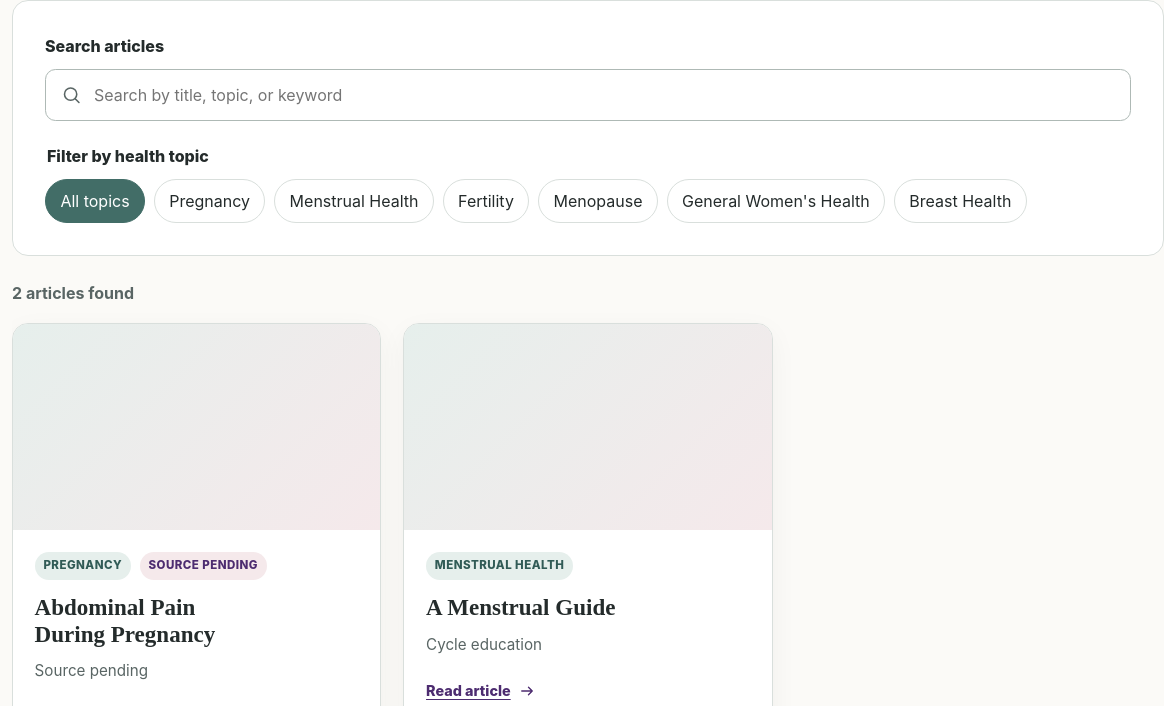
Test: ArticleSearch › searches, filters, announces empty state, and clears
Expected: the text "2 articles found" is shown, x1=12 y1=283 x2=134 y2=303
Type "menstrual" into the search field labelled "Search articles" at (588, 95), box x1=45 y1=69 x2=1131 y2=121
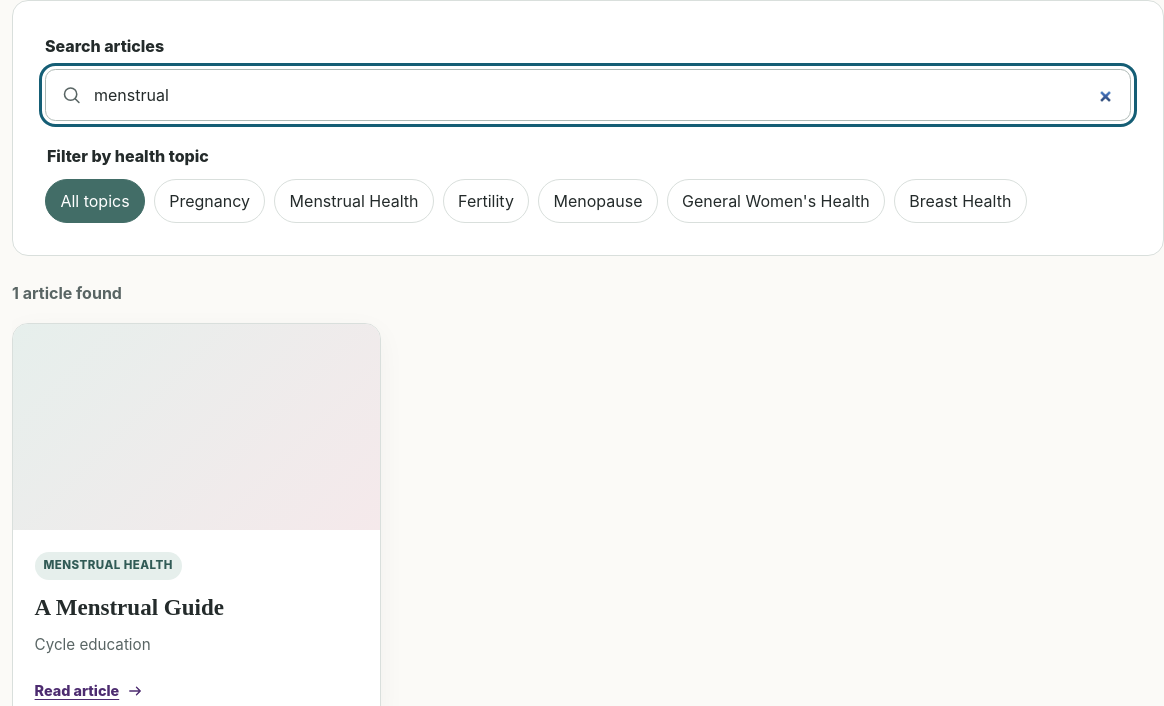
Expected: the link "A Menstrual Guide" is shown, x1=35 y1=594 x2=224 y2=620
Result: the text "1 article found" is shown at x1=12 y1=283 x2=122 y2=303
Click the button "Pregnancy" at (210, 201), box x1=154 y1=179 x2=265 y2=223
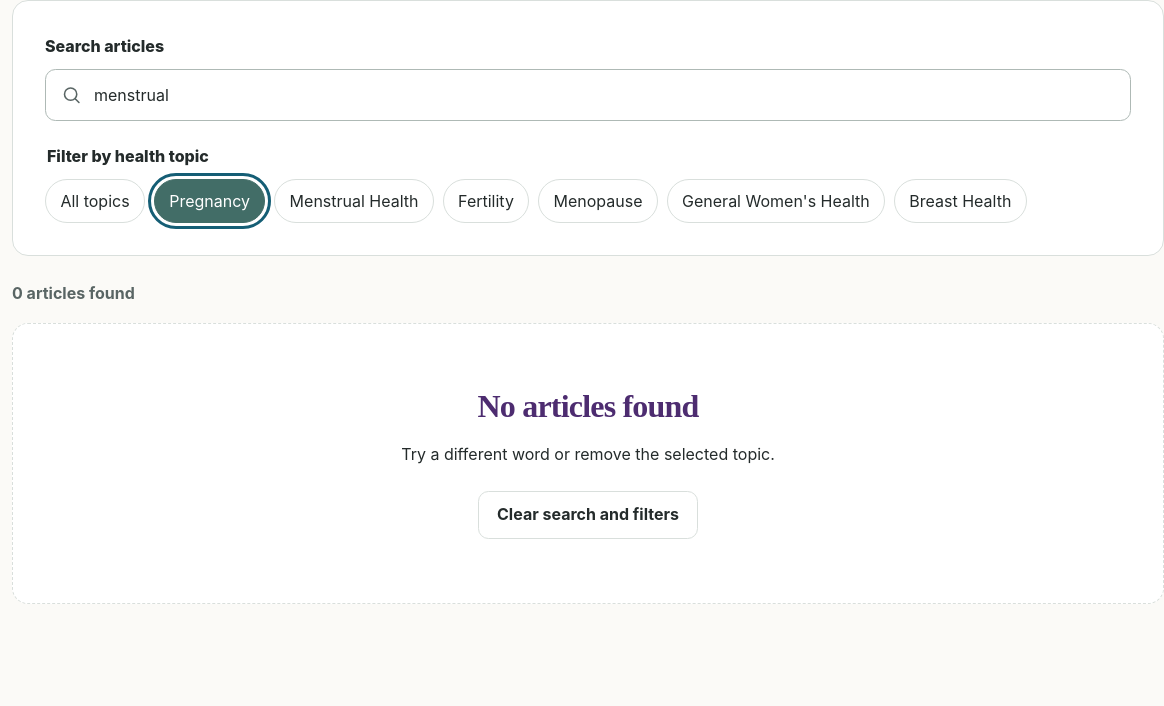
Result: the heading "No articles found" is shown at x1=478 y1=388 x2=699 y2=424
Click the button "Clear search and filters" at (588, 515), box x1=478 y1=491 x2=698 y2=539
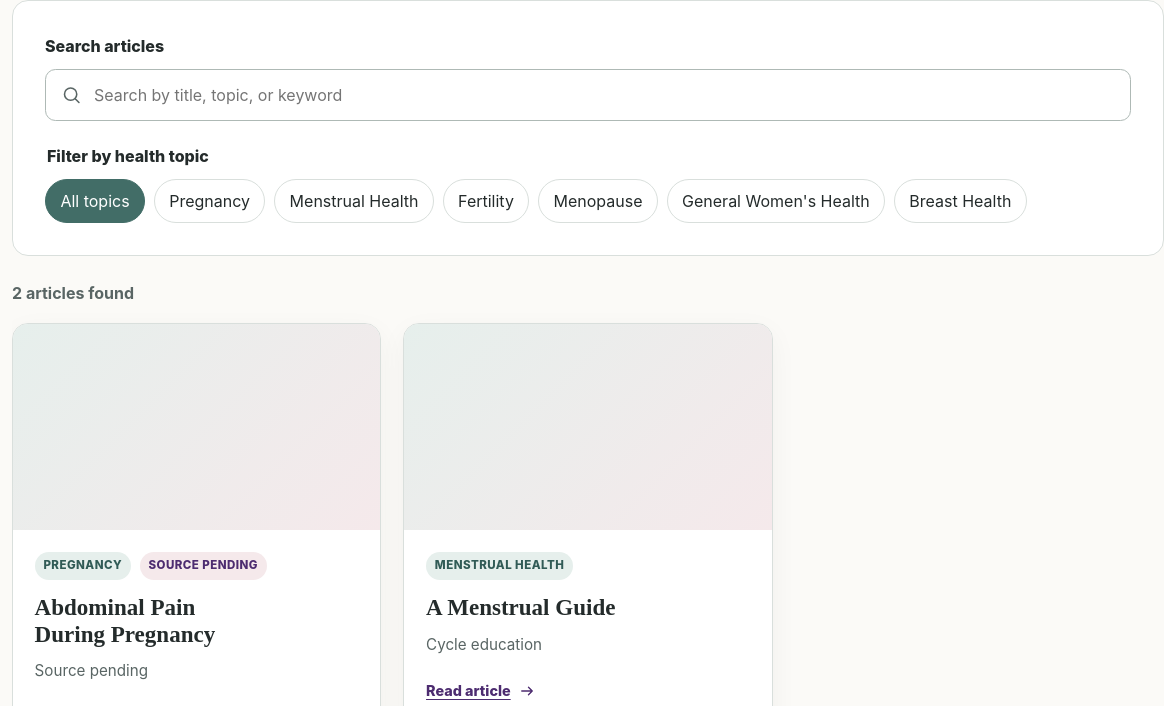
Result: the text "2 articles found" is shown at x1=12 y1=283 x2=134 y2=303
